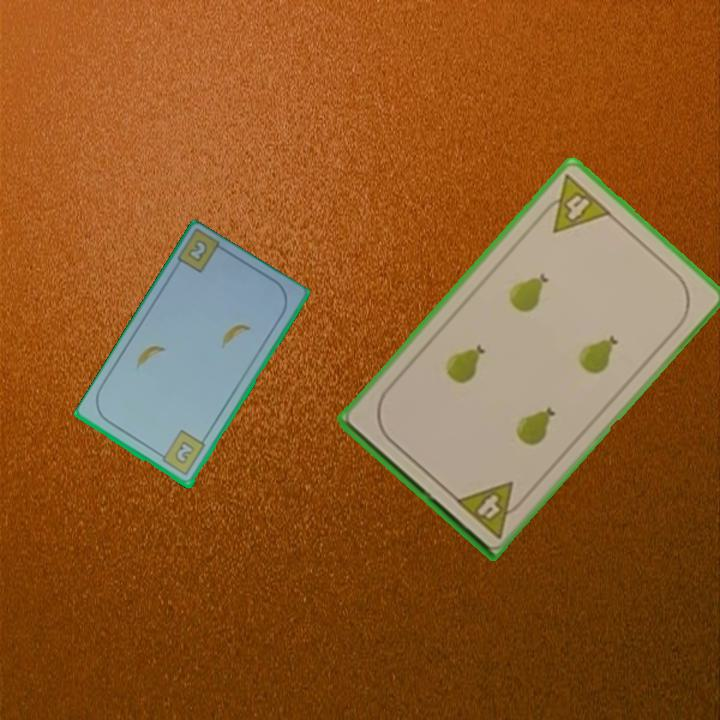2b: (155, 427, 208, 479), (184, 238, 211, 265)
4p: (534, 171, 615, 236), (451, 477, 530, 542)
